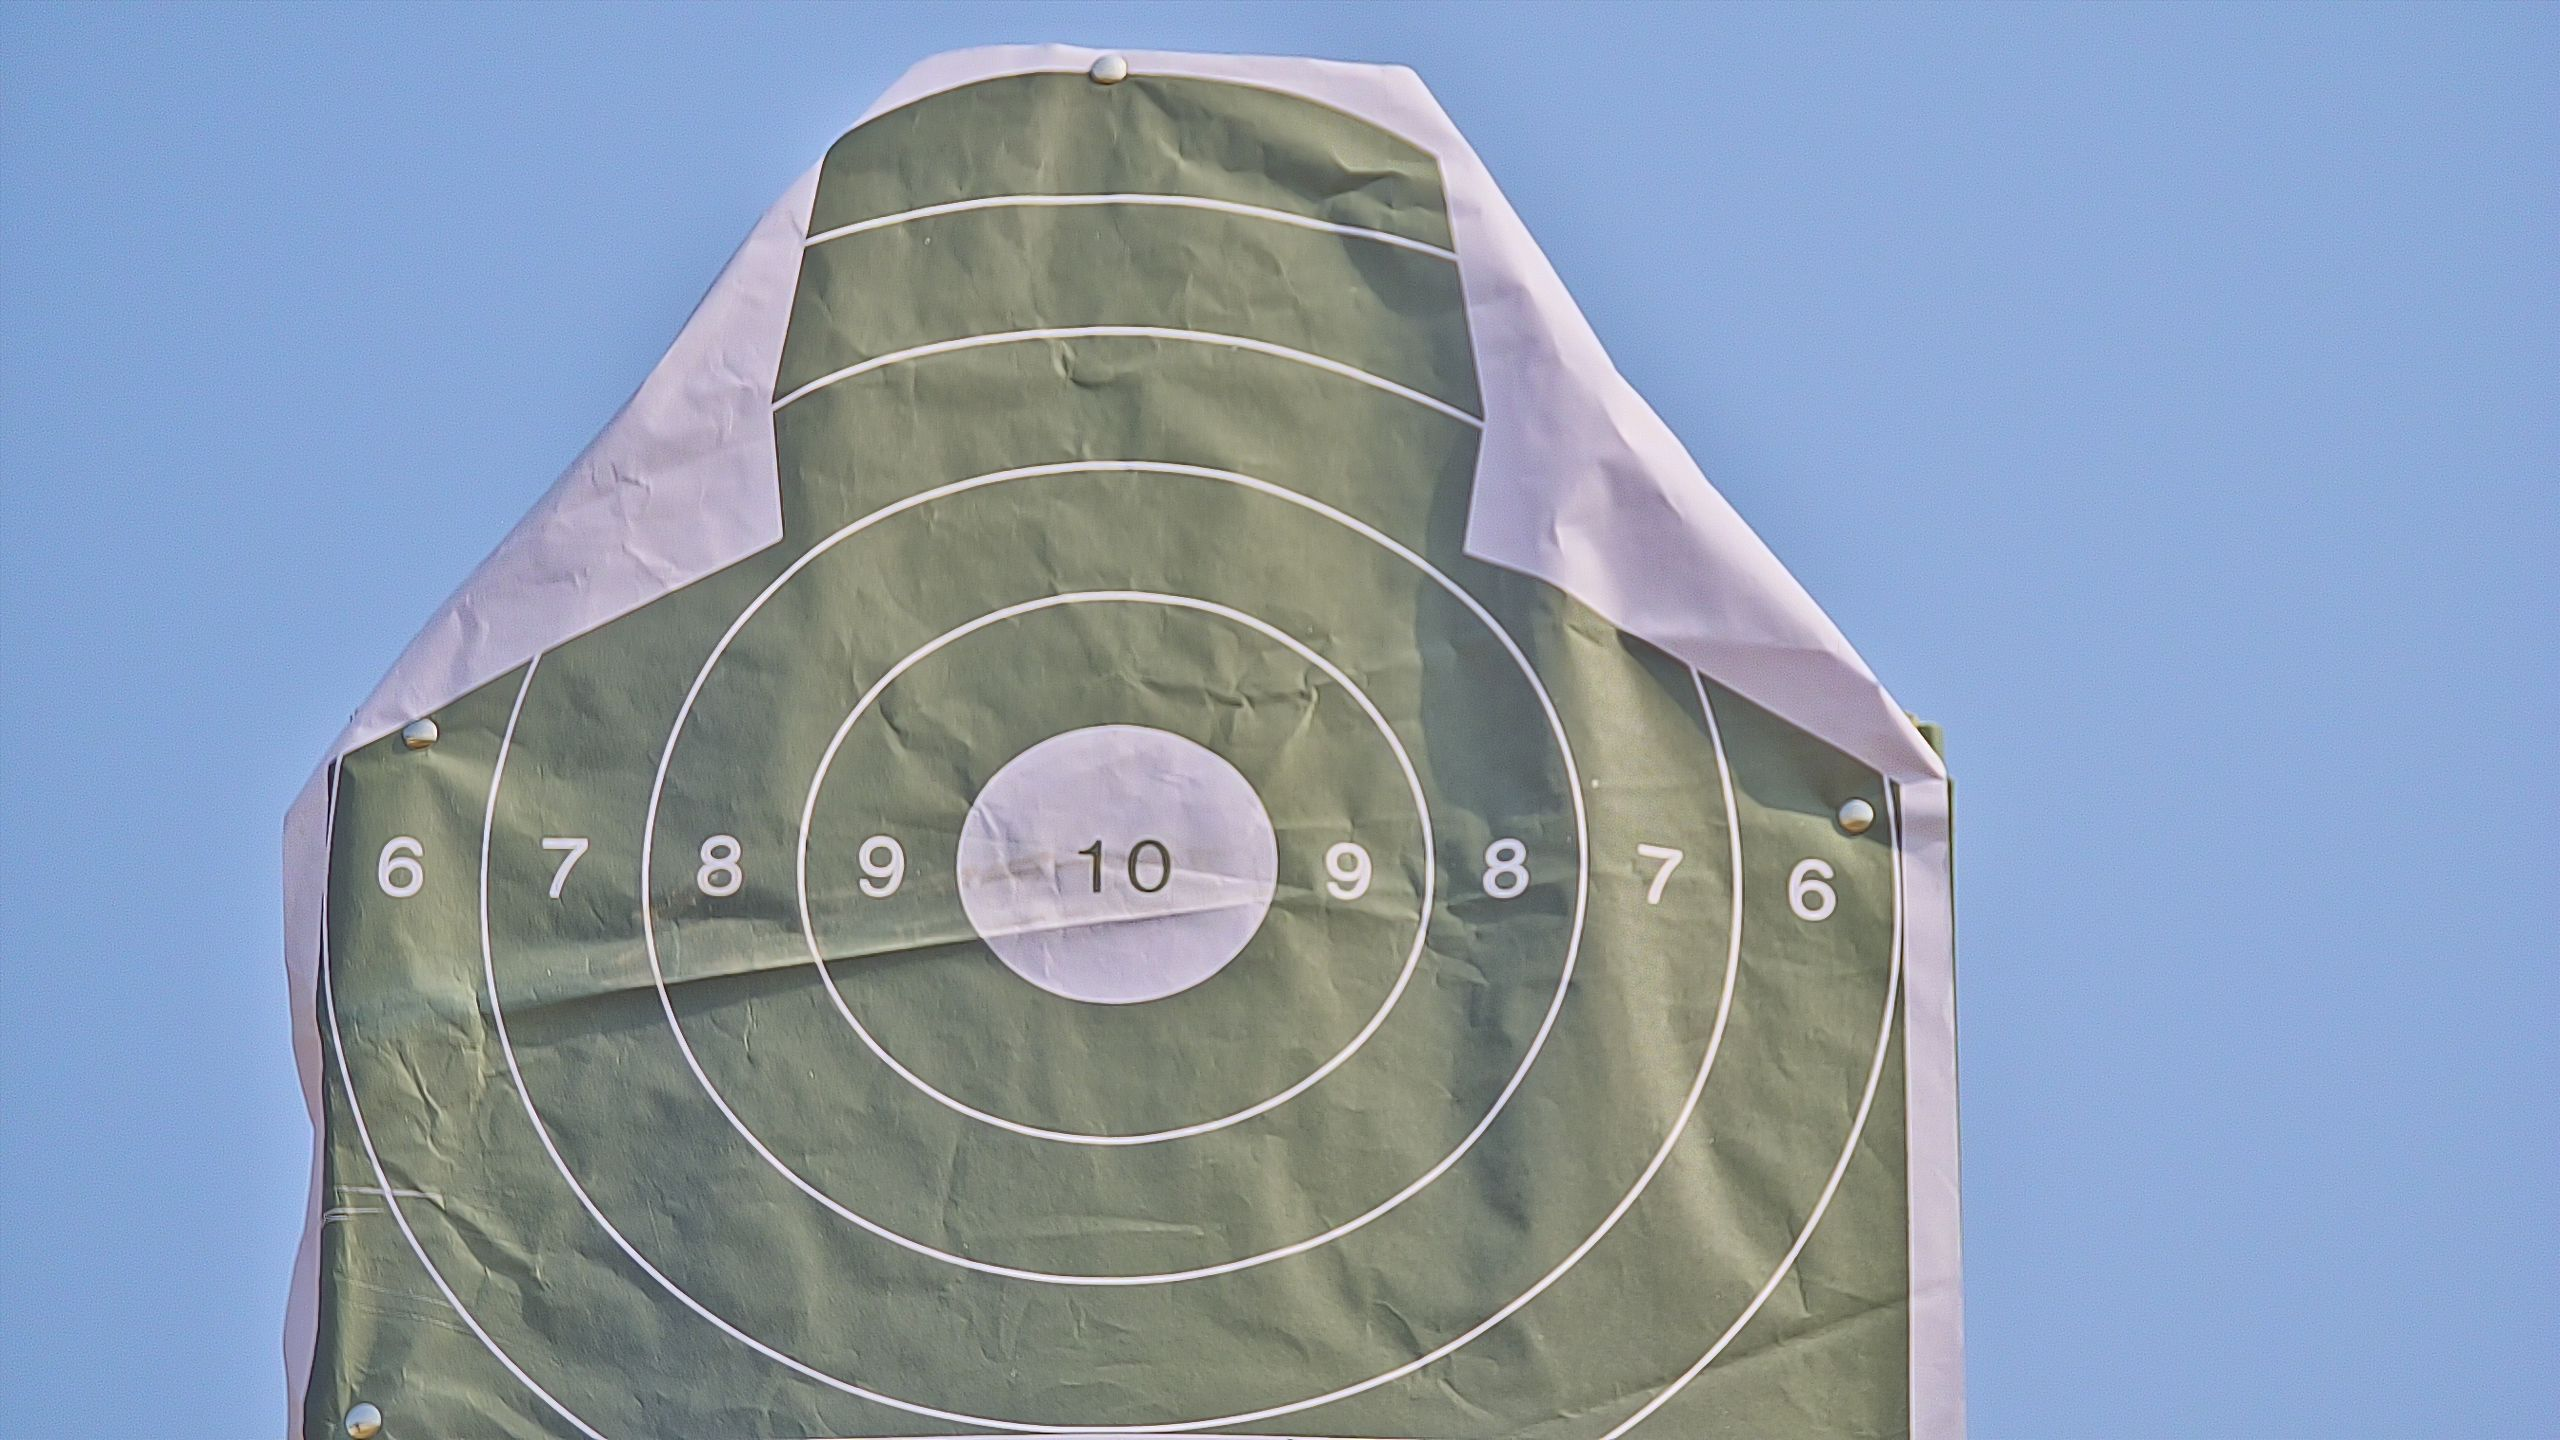kernel: (1111, 869, 1115, 874)
target: (315, 67, 1911, 1440)
ten: (949, 726, 1289, 1007)
